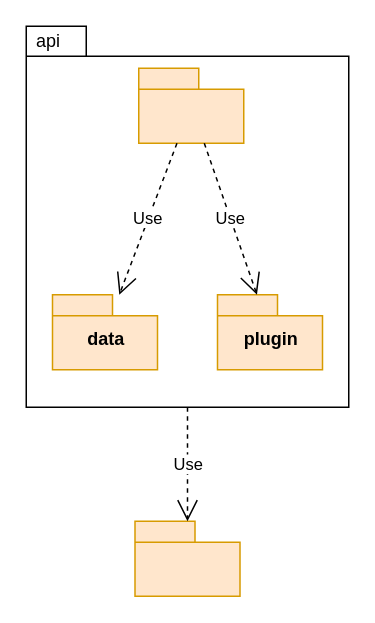
This 375x623 diagram has some shape labels left out. The shapes that lost their labels are listed below. From the top down, each one's centre as x and y in pixels, then its label:
At (x=190, y=105): "logic".
At (x=187, y=558): "core".
